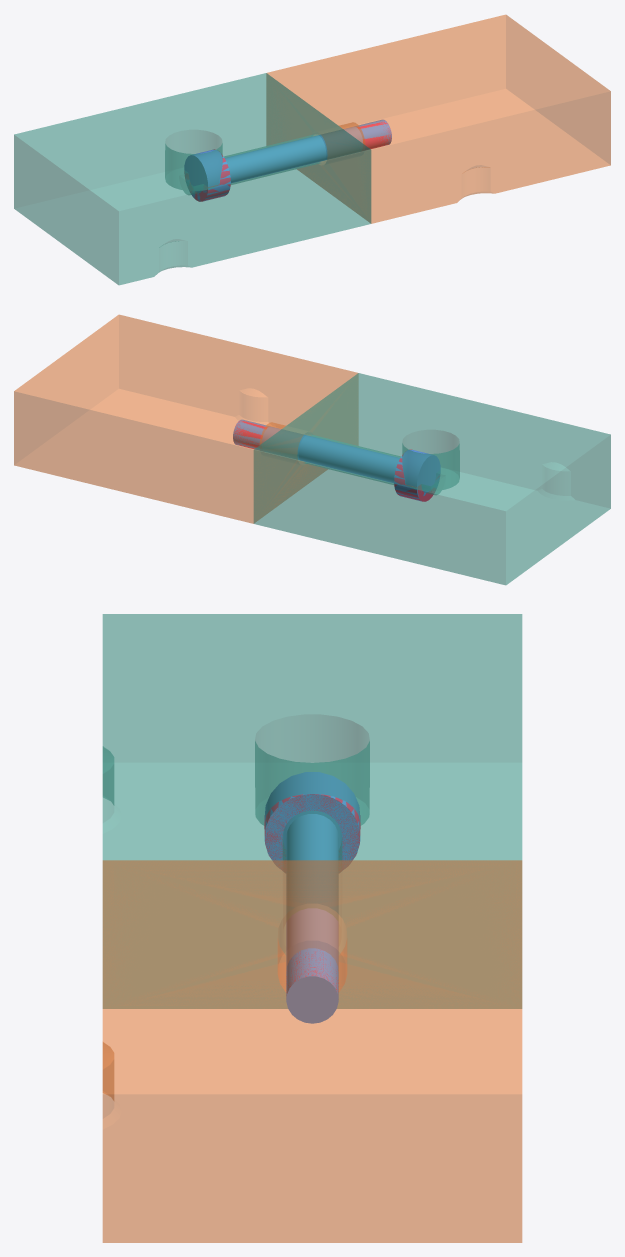
File: seam.glb
3 renders of one model, top to bottom at view 1: azimuth 30°, elevation 25°; view 2: azimuth 150°, elevation 25°; view 3: azimuth 270°, elevation 25°, orthographic. The views are drawn at different scales.
Visible parts, largest first — view 1: Bottom_A, Bottom_B, M3x22, interf_A_head_-40, interf_B_shank_-40; view 2: Bottom_A, Bottom_B, M3x22, interf_A_head_-40; view 3: Bottom_B, Bottom_A, M3x22, interf_A_head_-40.
Part boxes in pixels (bbox=[...]): Bottom_A: bbox=[14, 73, 371, 285]; Bottom_B: bbox=[266, 14, 610, 223]; M3x22: bbox=[184, 119, 391, 201]; interf_A_head_-40: bbox=[184, 149, 230, 201]; interf_B_shank_-40: bbox=[357, 122, 391, 150]; Bottom_A: bbox=[253, 373, 610, 585]; Bottom_B: bbox=[14, 314, 358, 523]; M3x22: bbox=[233, 419, 440, 501]; interf_A_head_-40: bbox=[394, 449, 435, 501]; Bottom_B: bbox=[102, 860, 522, 1242]; Bottom_A: bbox=[102, 614, 522, 1008]; M3x22: bbox=[264, 772, 360, 1023]; interf_A_head_-40: bbox=[264, 794, 360, 860].
Size of the model in its own units: 0.065 by 0.00937 by 0.024.
